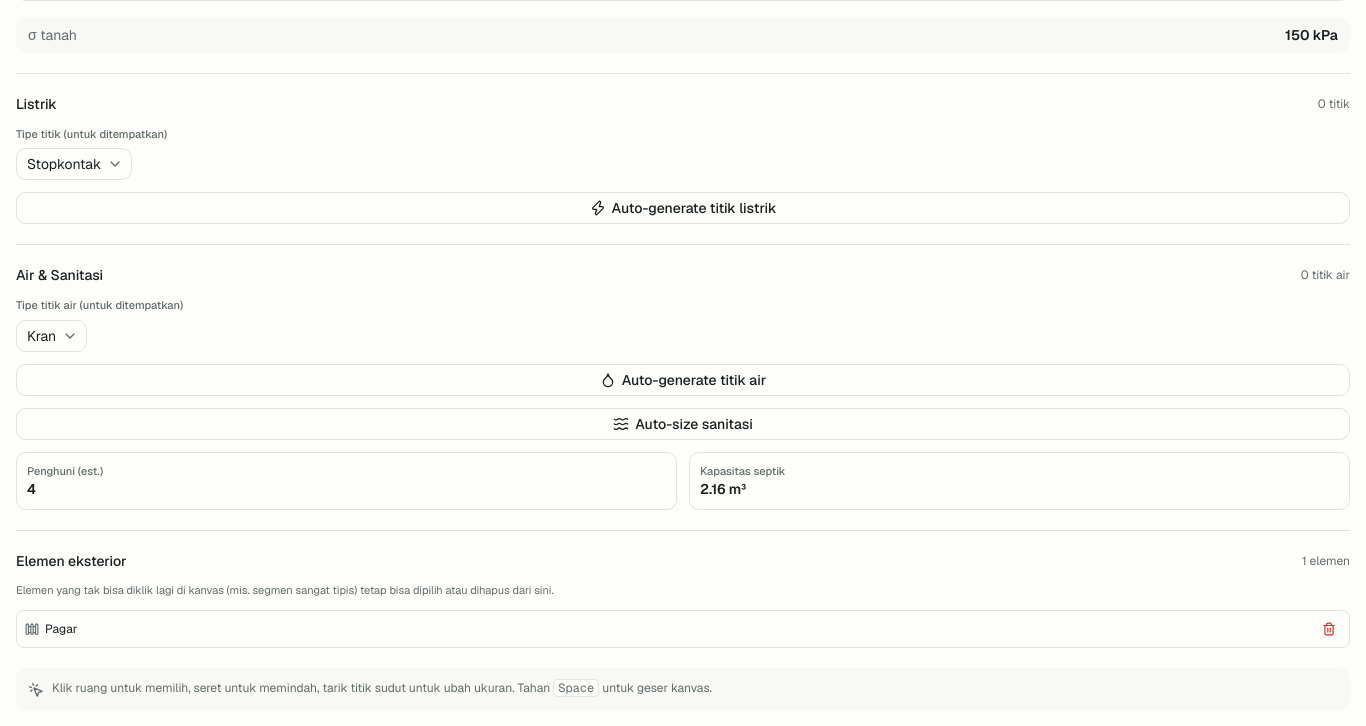
Test: EditorInspector — daftar Elemen eksterior (BUG 2: jalan keluar selalu bekerja) › menghapus elemen langsung dari daftar tanpa perlu menyeleksinya lebih dulu — elemen tak lagi jadi sampah permanen
(page scrolled)
Click the button named "Hapus".
click(1329, 629)  # box [1317,617,1341,641]
(page scrolled)
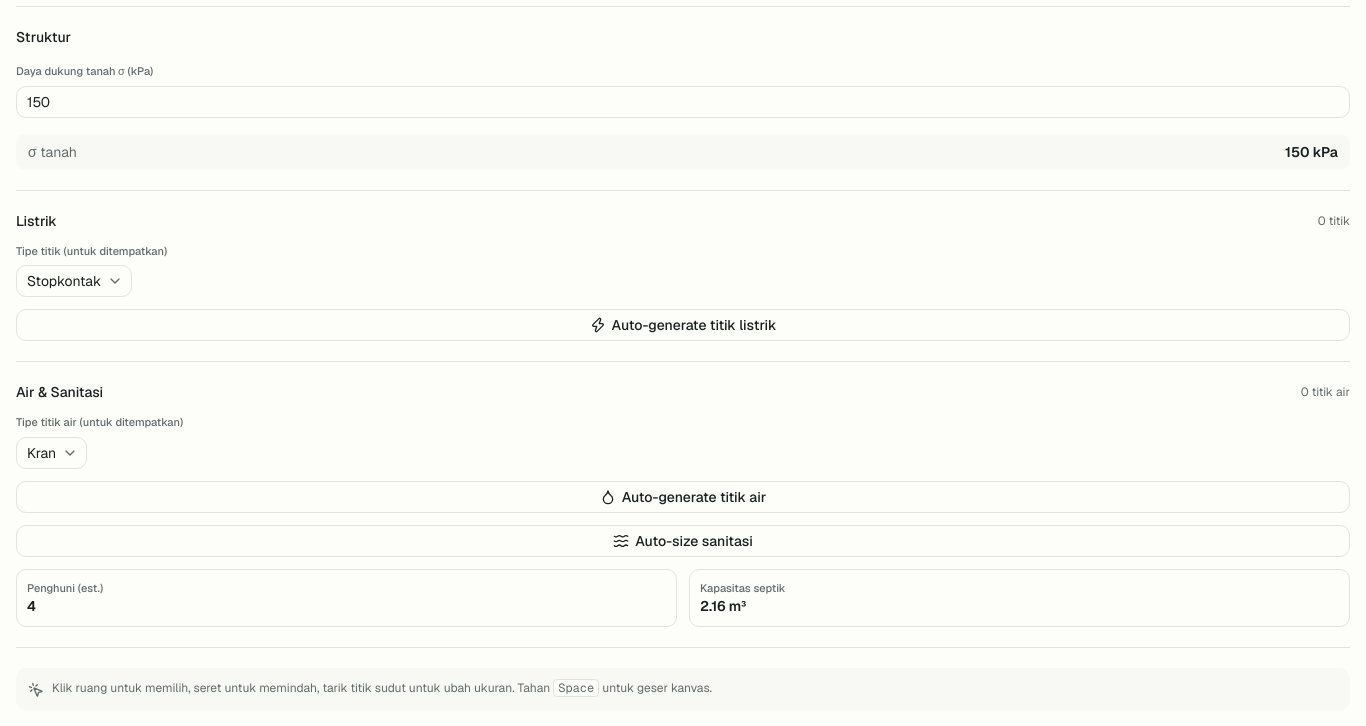
Now the element with test id "exterior-elements-section" is gone
